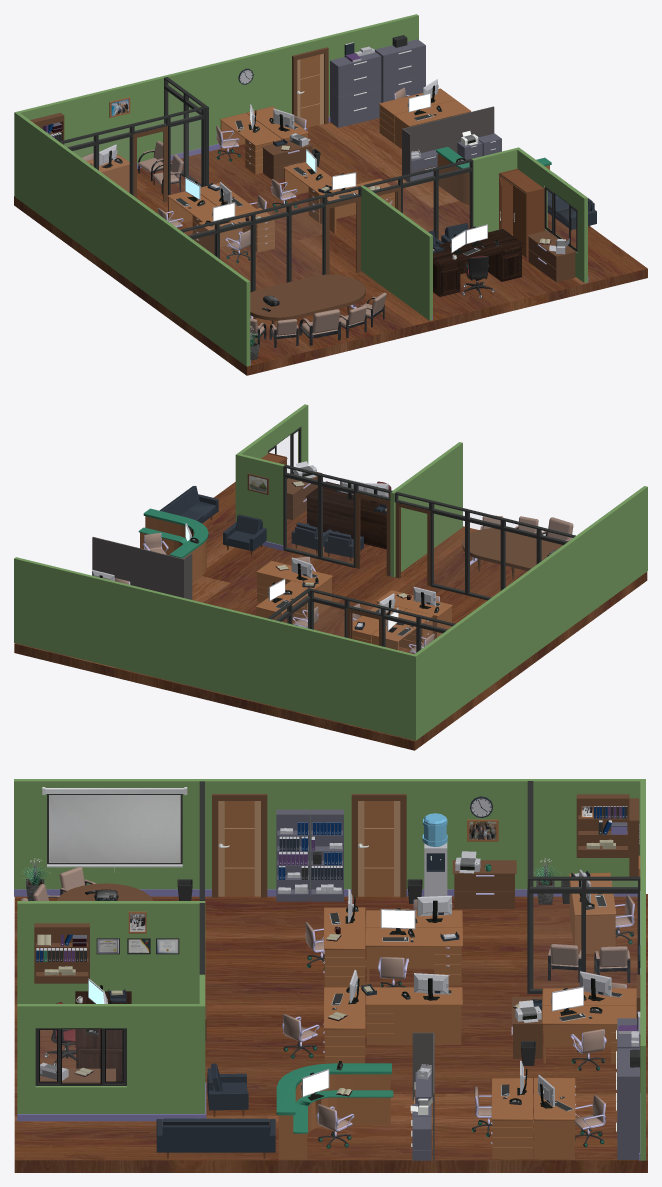
Rendered from 3d_note_office.glb.
The picture shows the model from 3 angles, top to bottom: view 1: azimuth 30°, elevation 25°; view 2: azimuth 150°, elevation 25°; view 3: azimuth 270°, elevation 25°; orthographic projection. The views are drawn at different scales.
Parts seen in each view (by area): view 1: Object_4, Object_8, Object_947, Object_1057, Object_994, Object_1140, Object_1061, Object_56, Object_17, Object_579, Object_691, Object_19 (+29 smaller); view 2: Object_4, Object_8, Object_947, Object_1057, Object_1140, Object_994, Object_19, Object_17, Object_10, Object_11, Object_384, Object_387 (+12 smaller); view 3: Object_8, Object_4, Object_1057, Object_947, Object_1043, Object_384, Object_10, Object_412, Object_1078, Object_66, Object_11, Object_663 (+50 smaller).
Part boxes in pixels (bbox=[...]): Object_4: bbox=[14, 14, 418, 366]; Object_8: bbox=[14, 118, 647, 375]; Object_947: bbox=[360, 185, 432, 320]; Object_1057: bbox=[472, 147, 587, 282]; Object_994: bbox=[250, 274, 365, 320]; Object_1140: bbox=[433, 229, 523, 296]; Object_1061: bbox=[499, 168, 544, 258]; Object_56: bbox=[301, 54, 319, 127]; Object_17: bbox=[448, 106, 494, 152]; Object_579: bbox=[219, 113, 281, 149]; Object_691: bbox=[394, 100, 471, 148]; Object_19: bbox=[403, 117, 448, 152]; Object_4: bbox=[14, 486, 647, 740]; Object_8: bbox=[14, 482, 647, 750]; Object_947: bbox=[390, 442, 462, 577]; Object_1057: bbox=[235, 404, 308, 545]; Object_1140: bbox=[305, 481, 389, 549]; Object_994: bbox=[462, 528, 562, 570]; Object_19: bbox=[137, 548, 182, 597]; Object_17: bbox=[92, 537, 137, 586]; Object_10: bbox=[140, 516, 206, 583]; Object_11: bbox=[138, 508, 208, 558]; Object_384: bbox=[159, 486, 218, 523]; Object_387: bbox=[223, 514, 266, 551]; Object_8: bbox=[14, 894, 647, 1172]; Object_4: bbox=[14, 779, 645, 1160]; Object_1057: bbox=[17, 974, 205, 1113]; Object_947: bbox=[17, 901, 205, 1003]; Object_1043: bbox=[42, 787, 187, 872]; Object_384: bbox=[156, 1118, 275, 1152]; Object_10: bbox=[278, 1074, 390, 1159]; Object_412: bbox=[365, 987, 462, 1044]; Object_1078: bbox=[41, 1029, 121, 1082]; Object_66: bbox=[224, 801, 254, 896]; Object_11: bbox=[276, 1063, 393, 1133]; Object_663: bbox=[534, 1078, 575, 1158].
Size of the model in its own units: 10.1 by 2.25 by 10.12.
Materials: 23 (21 with a texture image).
